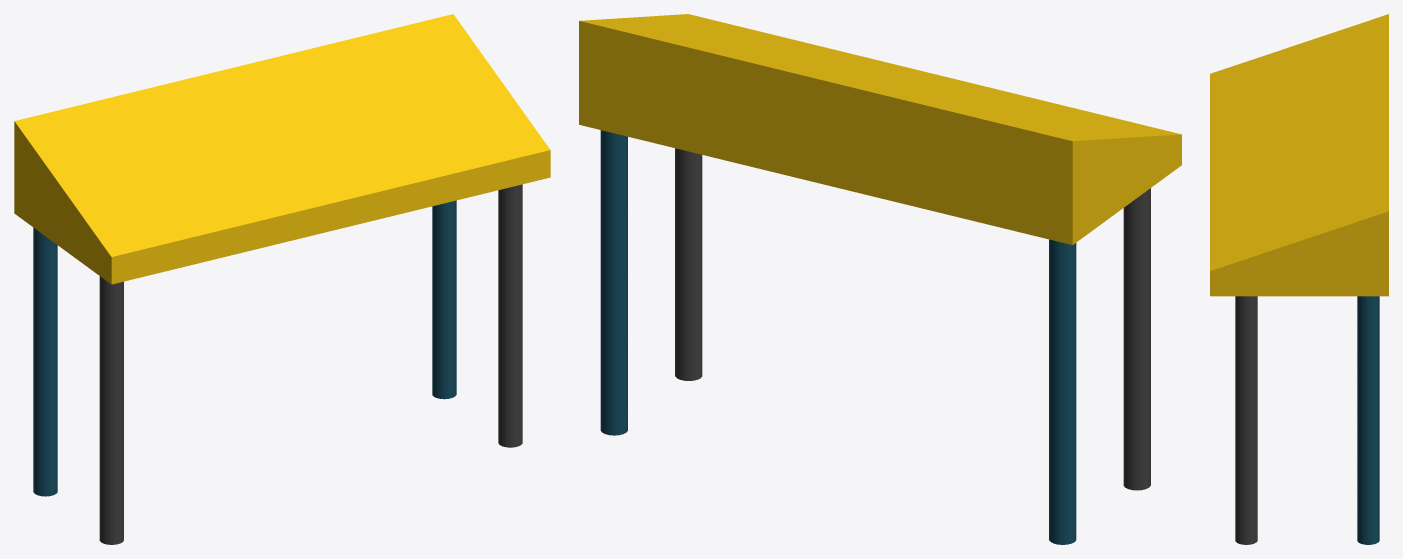
The model's file is buildingPart4.FBX.
3 views of the same model, side by side, from view 1: azimuth 30°, elevation 25°; view 2: azimuth 150°, elevation 25°; view 3: azimuth 270°, elevation 25° (orthographic). The views are drawn at different scales.
Parts seen in each view (by area): view 1: Box006, Cylinder001, Cylinder002, Cylinder003, Cylinder004; view 2: Box006, Cylinder003, Cylinder004, Cylinder001, Cylinder002; view 3: Box006, Cylinder002, Cylinder004.
Boxes of the visible parts, x1,y1,x2,y2 form: Box006: [14, 14, 550, 284]; Cylinder001: [99, 276, 123, 544]; Cylinder002: [498, 184, 522, 447]; Cylinder003: [33, 227, 57, 496]; Cylinder004: [432, 200, 456, 399]; Box006: [579, 14, 1181, 244]; Cylinder003: [1049, 239, 1076, 544]; Cylinder004: [600, 130, 627, 435]; Cylinder001: [1123, 188, 1150, 490]; Cylinder002: [675, 148, 702, 380]; Box006: [1210, 14, 1388, 296]; Cylinder002: [1235, 296, 1257, 544]; Cylinder004: [1357, 296, 1379, 544].
Size of the model in its own units: 41.18 by 32.89 by 15.78.
